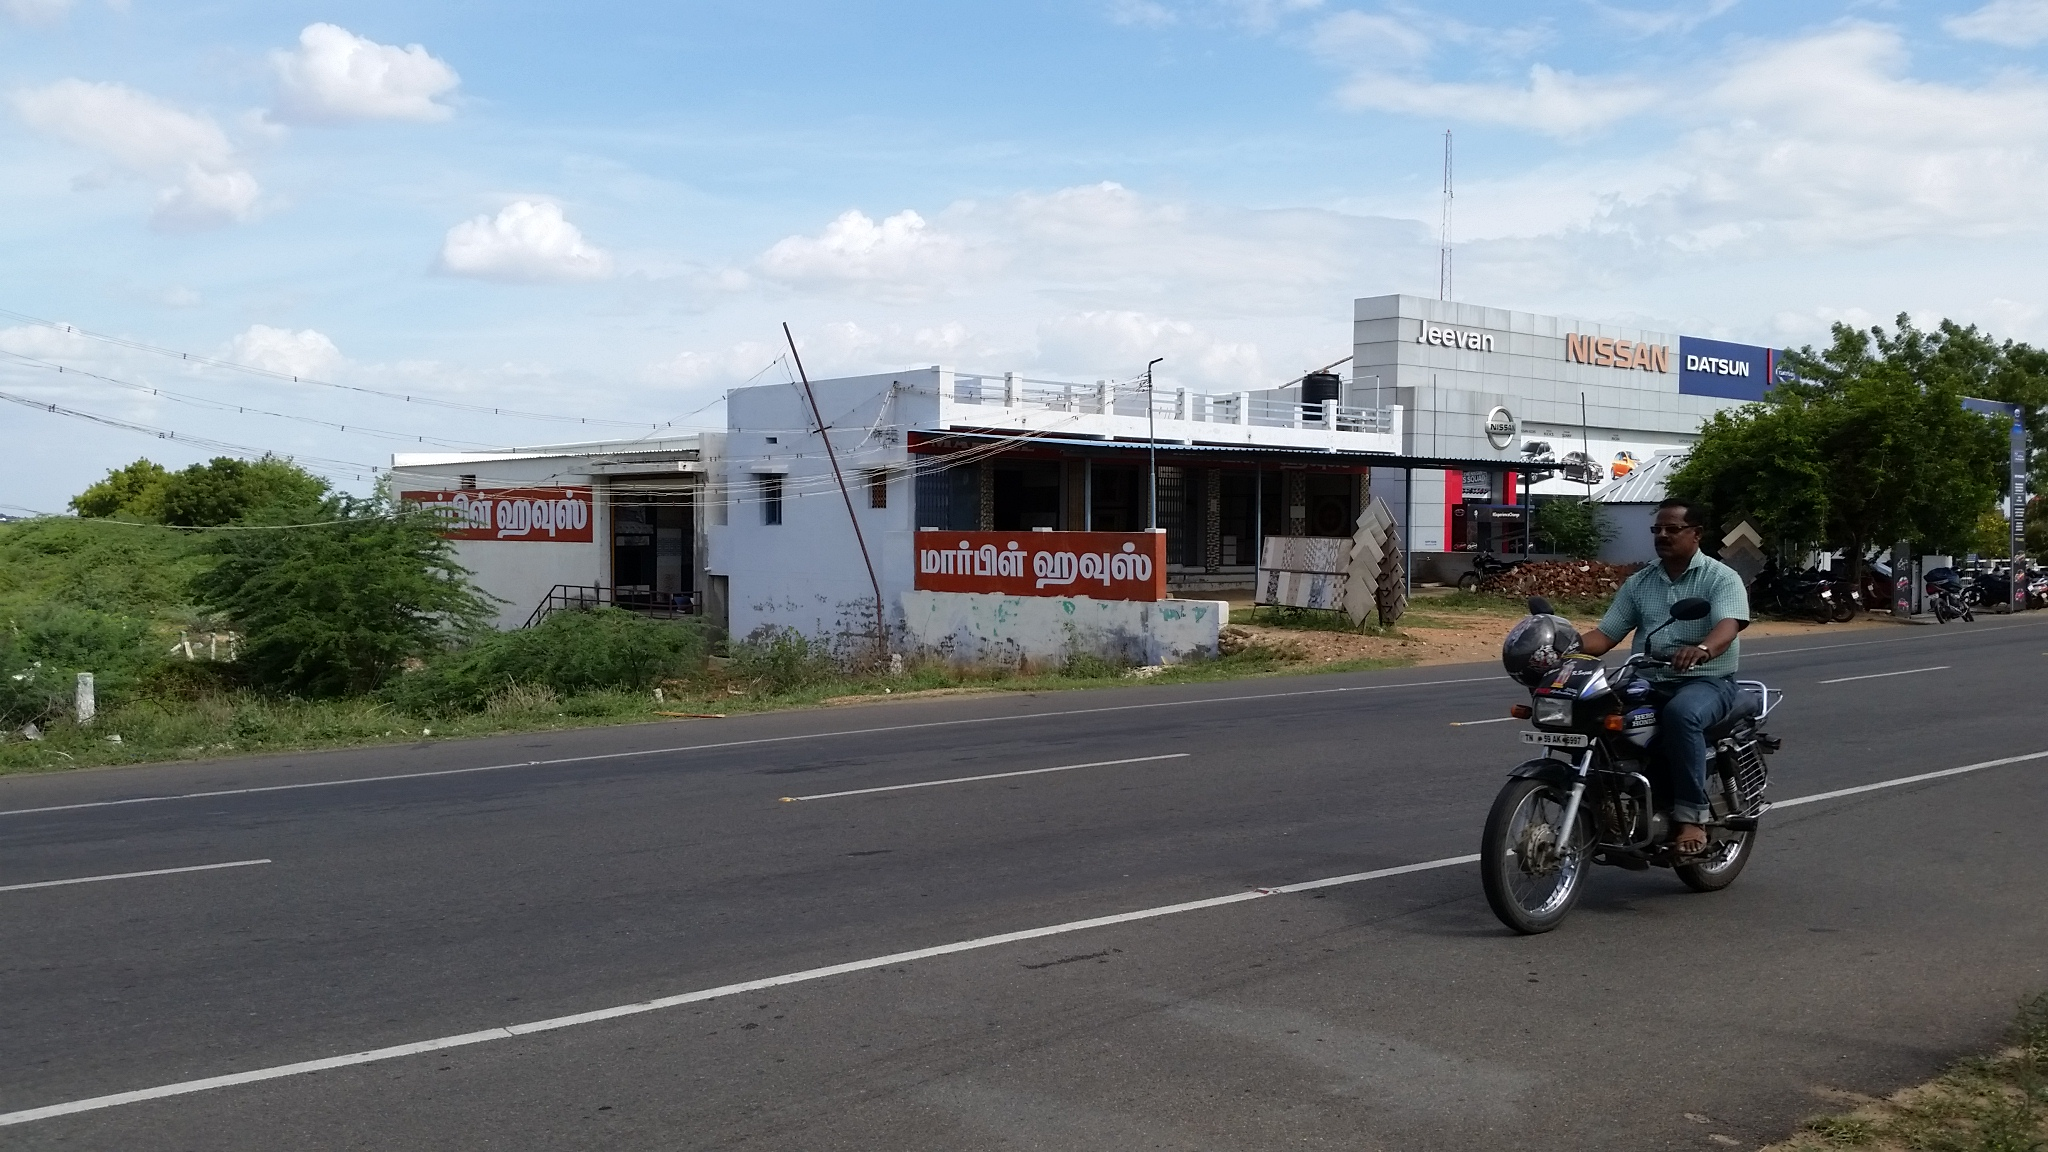biker: (1420, 442, 1842, 960)
nohelmet: (1637, 490, 1722, 597)
